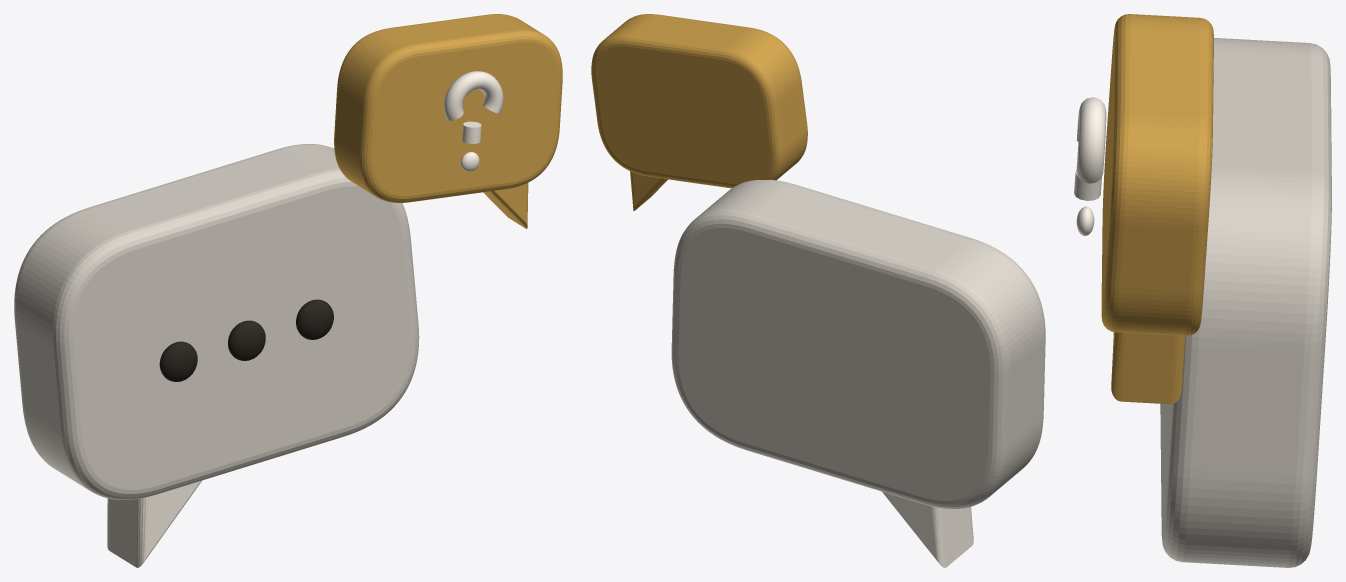
File: deco-bulles-faq.glb
3 views of the same model, side by side, from view 1: azimuth 30°, elevation 25°; view 2: azimuth 150°, elevation 25°; view 3: azimuth 270°, elevation 25° (orthographic). The views are drawn at different scales.
Parts seen in each view (by area): view 1: deco-bulles-faq; view 2: deco-bulles-faq; view 3: deco-bulles-faq.
Boxes of the visible parts, x1,y1,x2,y2 form: deco-bulles-faq: [14, 14, 562, 567]; deco-bulles-faq: [591, 14, 1045, 567]; deco-bulles-faq: [1074, 14, 1331, 567].
Size of the model in its own units: 0.226 by 0.214 by 0.073.
